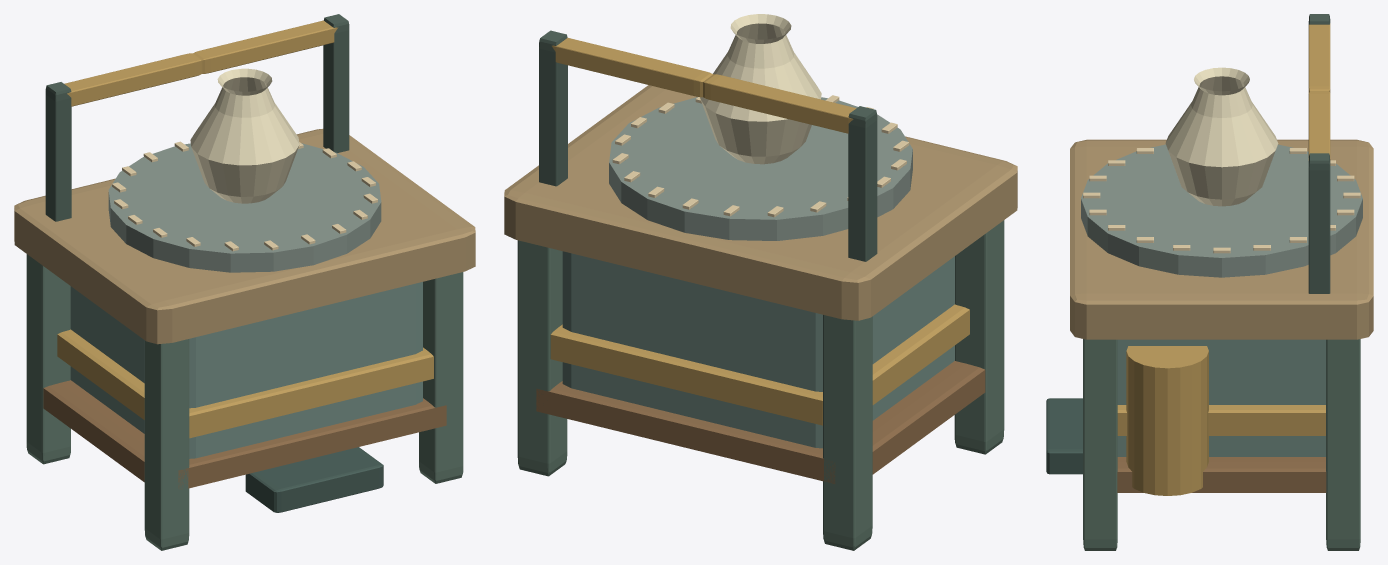
The model's file is wheel.glb.
3 views of the same model, side by side, from view 1: azimuth 30°, elevation 25°; view 2: azimuth 150°, elevation 25°; view 3: azimuth 270°, elevation 25° (orthographic). The views are drawn at different scales.
Visible parts, largest first — view 1: wheel-table-top-000, wheel-wheel-body-006, wheel-wheel-head-007, wheel-table-shelf-005, wheel-wheel-guard-010, wheel-wheel-vase-008, wheel-table-leg-002, wheel-table-leg-004, wheel-table-leg-001, wheel-wheel-pedal-009, wheel-wheel-arm-031, wheel-wheel-arm-033 (+2 smaller); view 2: wheel-table-top-000, wheel-wheel-body-006, wheel-wheel-head-007, wheel-table-shelf-005, wheel-wheel-guard-010, wheel-table-leg-001, wheel-wheel-vase-008, wheel-table-leg-003, wheel-table-leg-002, wheel-wheel-arm-031, wheel-wheel-bar-034, wheel-wheel-bar-032 (+1 smaller); view 3: wheel-table-top-000, wheel-wheel-head-007, wheel-wheel-wheel-035, wheel-wheel-body-006, wheel-wheel-vase-008, wheel-table-leg-004, wheel-table-leg-003, wheel-table-shelf-005, wheel-wheel-guard-010, wheel-wheel-arm-033, wheel-wheel-pedal-009, wheel-wheel-bar-032 (+1 smaller).
Part boxes in pixels (x1,y1,x2,y2): wheel-table-top-000: [14, 129, 475, 344]; wheel-wheel-body-006: [70, 282, 422, 458]; wheel-wheel-head-007: [108, 143, 381, 272]; wheel-table-shelf-005: [43, 380, 446, 489]; wheel-wheel-guard-010: [57, 329, 433, 438]; wheel-wheel-vase-008: [190, 68, 299, 203]; wheel-table-leg-002: [144, 339, 189, 550]; wheel-table-leg-004: [419, 272, 463, 483]; wheel-table-leg-001: [26, 254, 70, 464]; wheel-wheel-pedal-009: [245, 447, 383, 512]; wheel-wheel-arm-031: [45, 82, 71, 221]; wheel-wheel-arm-033: [323, 14, 349, 152]; wheel-table-top-000: [504, 85, 1017, 320]; wheel-wheel-body-006: [562, 251, 954, 448]; wheel-wheel-head-007: [609, 97, 912, 240]; wheel-table-shelf-005: [536, 361, 985, 483]; wheel-wheel-guard-010: [550, 304, 969, 425]; wheel-table-leg-001: [823, 315, 872, 550]; wheel-wheel-vase-008: [700, 14, 821, 164]; wheel-table-leg-003: [517, 240, 567, 476]; wheel-table-leg-002: [954, 220, 1004, 454]; wheel-wheel-arm-031: [848, 106, 877, 261]; wheel-wheel-bar-034: [552, 38, 712, 97]; wheel-wheel-bar-032: [703, 74, 856, 133]; wheel-table-top-000: [1070, 139, 1373, 339]; wheel-wheel-head-007: [1081, 144, 1362, 277]; wheel-wheel-wheel-035: [1126, 346, 1208, 495]; wheel-wheel-body-006: [1117, 339, 1325, 456]; wheel-wheel-vase-008: [1165, 67, 1278, 206]; wheel-table-leg-004: [1083, 339, 1117, 550]; wheel-table-leg-003: [1326, 339, 1360, 550]; wheel-table-shelf-005: [1117, 457, 1326, 492]; wheel-wheel-guard-010: [1117, 405, 1325, 435]; wheel-wheel-arm-033: [1308, 153, 1330, 293]; wheel-wheel-pedal-009: [1046, 398, 1082, 474]; wheel-wheel-bar-032: [1308, 23, 1330, 93].
Size of the model in its own units: 1.82 by 2.01 by 1.51.
